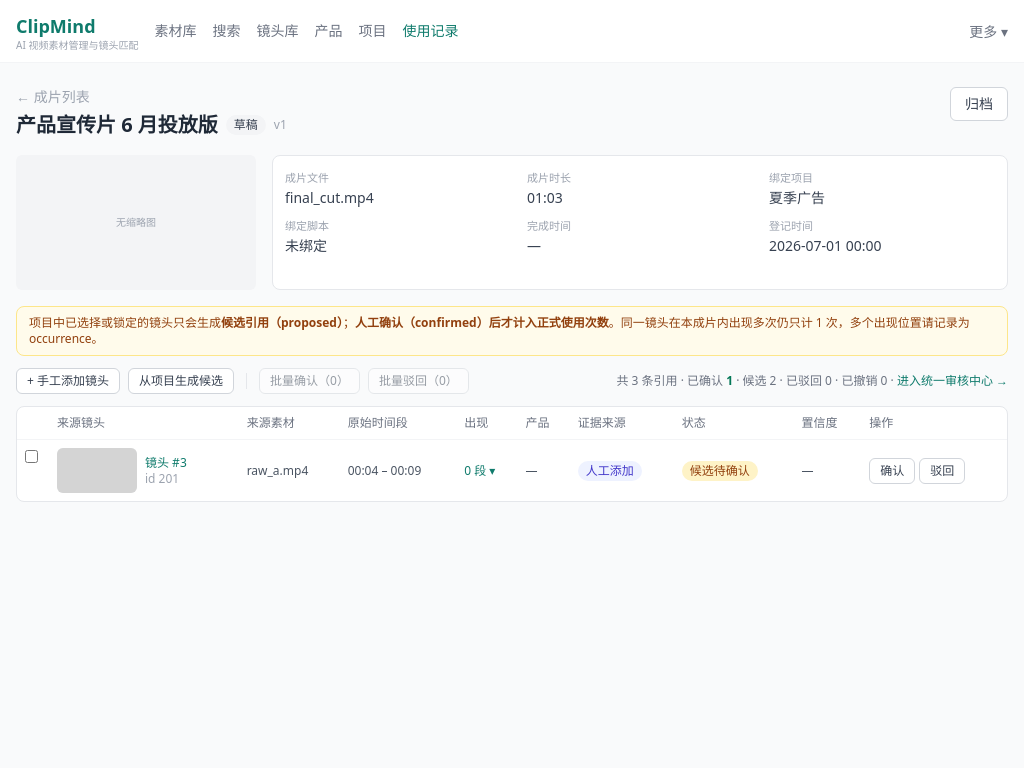
Test: FinalVideoDetail › 从项目生成候选：展示统计结果
What coordinates should you click on to do the following:
click the button with test id "fv-propose"
I would click on:
 (181, 381)
Its box is [128, 368, 234, 394].
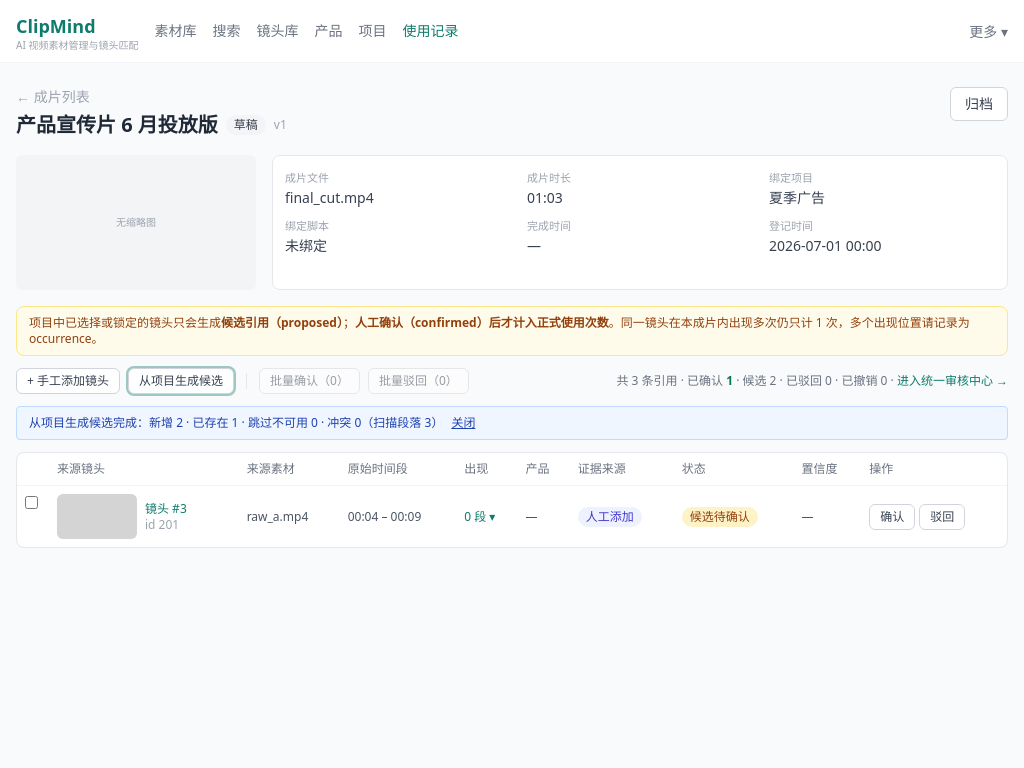
Expected: the element with test id "propose-result" shows "新增 2", [16, 406, 1008, 440]
Expected: the element with test id "propose-result" shows "已存在 1", [16, 406, 1008, 440]
